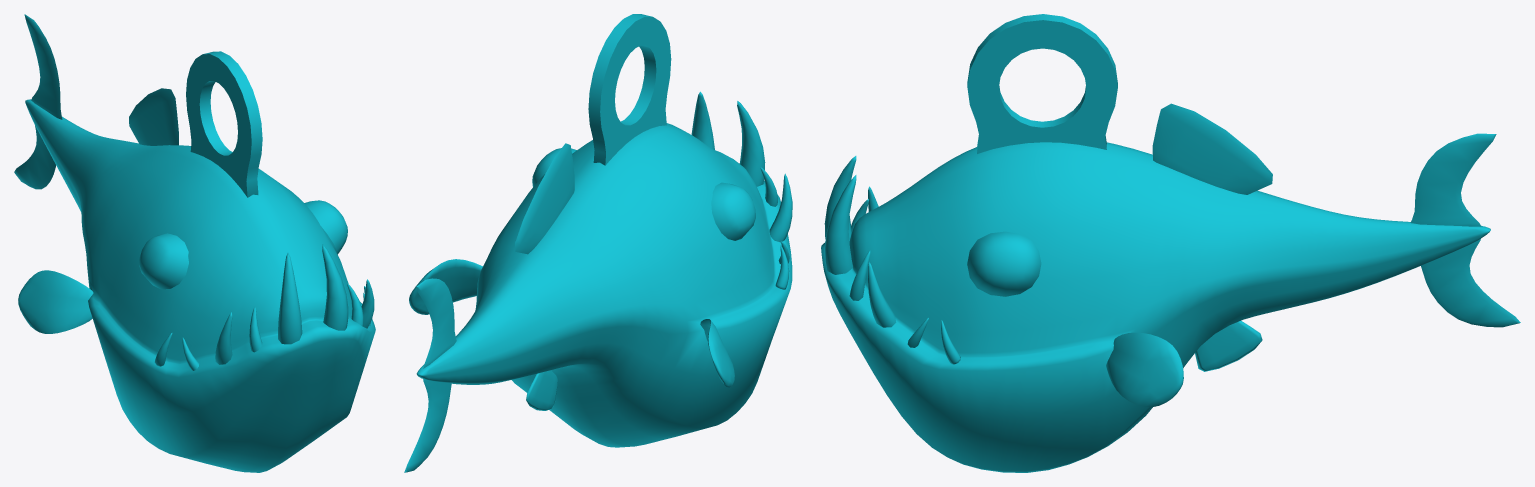
The model's file is Piranha_Color.fbx.
The picture shows the model from 3 angles, left to right: view 1: azimuth 30°, elevation 25°; view 2: azimuth 150°, elevation 25°; view 3: azimuth 270°, elevation 25°; orthographic projection. The views are drawn at different scales.
Parts seen in each view (by area): view 1: Cube, Plane.005, Plane, Cube.007, Cube.002, Plane.001, Plane.003, Plane.004, Cube.004, Cube.003; view 2: Cube, Plane.005, Plane.001, Plane, Cube.007, Cube.002, Plane.003, Plane.004, Plane.002, Cube.004; view 3: Cube, Plane.005, Plane.001, Plane, Plane.003, Plane.004, Cube.007, Cube.002, Plane.002, Cube.004.
Part boxes in pixels (x1,y1,x2,y2): Cube: (25, 99, 375, 472); Plane.005: (186, 51, 262, 197); Plane: (18, 270, 93, 333); Cube.007: (139, 200, 347, 289); Cube.002: (278, 244, 348, 344); Plane.001: (129, 88, 178, 145); Plane.003: (24, 14, 62, 119); Plane.004: (14, 125, 55, 189); Cube.004: (215, 279, 374, 364); Cube.003: (249, 283, 363, 352); Cube: (416, 123, 792, 447); Plane.005: (588, 14, 671, 165); Plane.001: (515, 143, 574, 254); Plane: (409, 259, 734, 387); Cube.007: (532, 148, 755, 240); Cube.002: (691, 91, 765, 186); Plane.003: (416, 278, 456, 368); Plane.004: (404, 379, 451, 472); Plane.002: (526, 370, 557, 410); Cube.004: (769, 173, 792, 242); Cube: (821, 142, 1490, 472); Plane.005: (967, 14, 1117, 153); Plane.001: (1152, 103, 1272, 194); Plane: (1106, 332, 1183, 407); Plane.003: (1410, 133, 1496, 226); Plane.004: (1421, 239, 1520, 327); Cube.007: (967, 231, 1041, 296); Cube.002: (824, 156, 856, 274); Plane.002: (1195, 321, 1262, 371); Cube.004: (868, 186, 896, 327).
Bounding box in the file's own units: 12.61 × 16.4 × 22.98.
